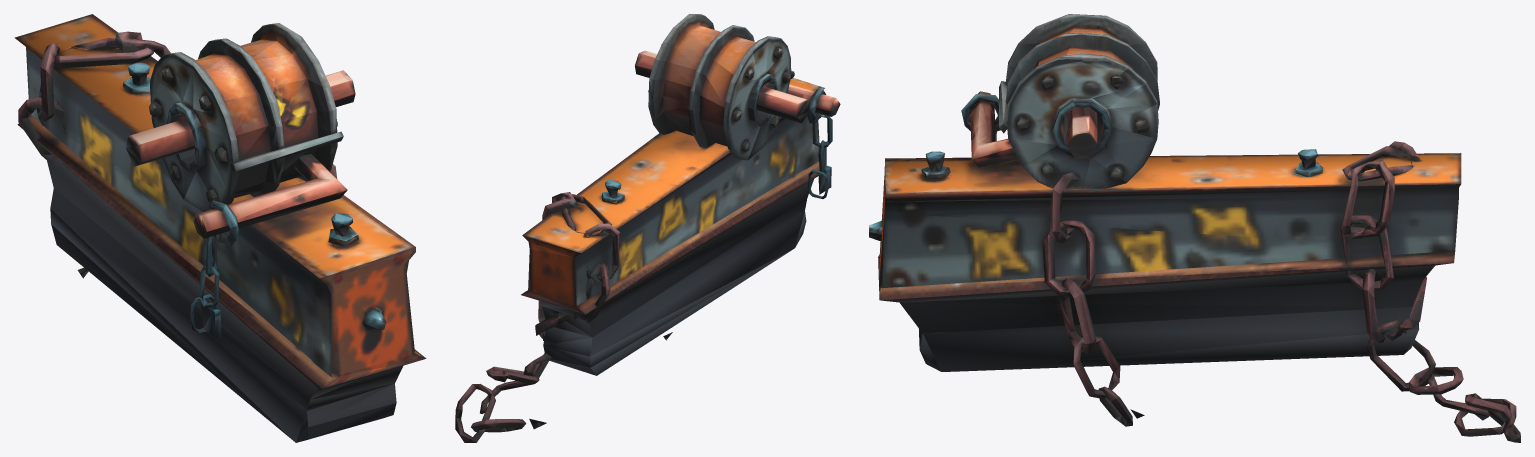
Rendered from wpn_ram.glb.
3 views of the same model, side by side, from view 1: azimuth 30°, elevation 25°; view 2: azimuth 150°, elevation 25°; view 3: azimuth 270°, elevation 25° (orthographic). The views are drawn at different scales.
Visible parts, largest first — view 1: tripo_node_d9d3fcbf; view 2: tripo_node_d9d3fcbf; view 3: tripo_node_d9d3fcbf.
Part boxes in pixels (<box>): tripo_node_d9d3fcbf: <box>14,14,426,442</box>; tripo_node_d9d3fcbf: <box>455,14,840,442</box>; tripo_node_d9d3fcbf: <box>869,14,1520,442</box>.
Bounding box in the file's own units: 0.3733 × 0.6191 × 0.998.
Materials: 1 (1 with a texture image).
